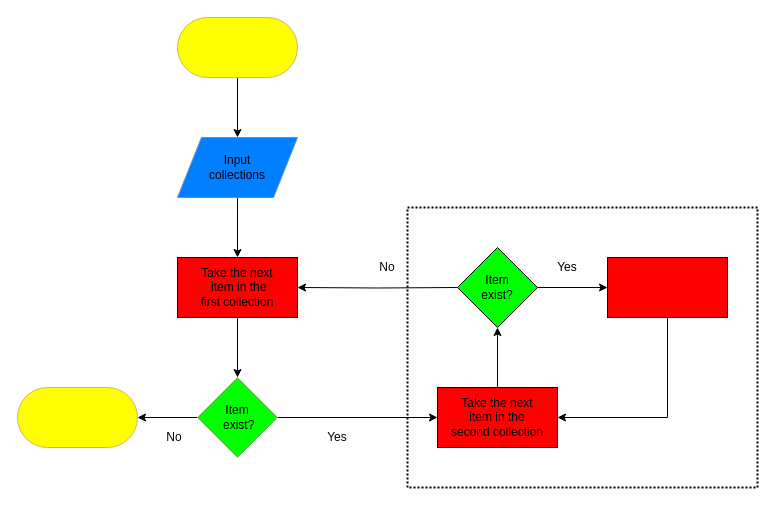
Image size: 776x506. Some labels were removed from this diagram. Here are the shapes that lost their labels. From the top down, the box of each, then its label:
(176, 16, 298, 78): Start
(606, 256, 728, 318): Run double indented code
(16, 386, 138, 448): End
